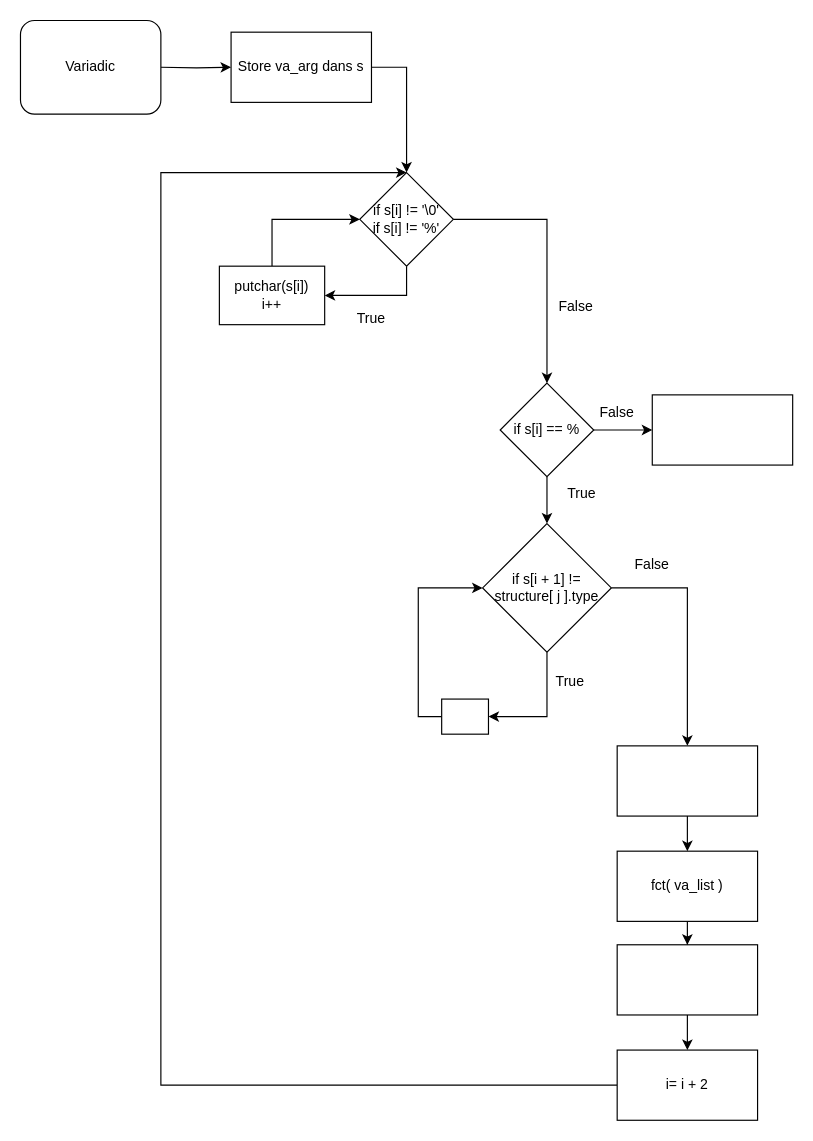
The diagram is 813 pixels wide and 1141 high, and some of its shapes have lost their labels. The shapes that lost their labels are listed below. From the top down, each one's centre as x and y in pixels, then its label:
(722,429): STOP
(464,716): J++
(687,780): structure[J].fct
(687,979): a = va_arg write(1, a, size of)
